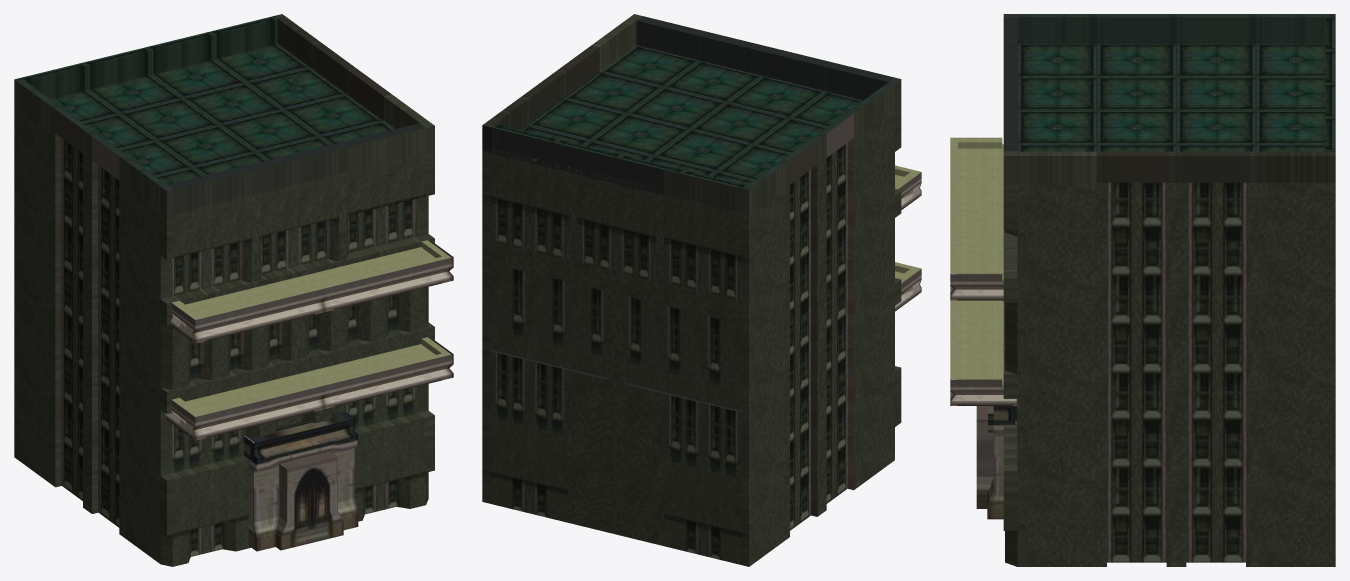
File: outland_building01.fbx
The picture shows the model from 3 angles, left to right: view 1: azimuth 30°, elevation 25°; view 2: azimuth 150°, elevation 25°; view 3: azimuth 270°, elevation 25°; orthographic projection. The views are drawn at different scales.
Parts seen in each view (by area): view 1: Cube; view 2: Cube; view 3: Cube.
Boxes of the visible parts, x1,y1,x2,y2 form: Cube: [14, 14, 453, 566]; Cube: [482, 14, 921, 566]; Cube: [950, 14, 1335, 566].
Bounding box in the file's own units: 3172 × 4276 × 3633.
Materials: 3 (3 with a texture image).
